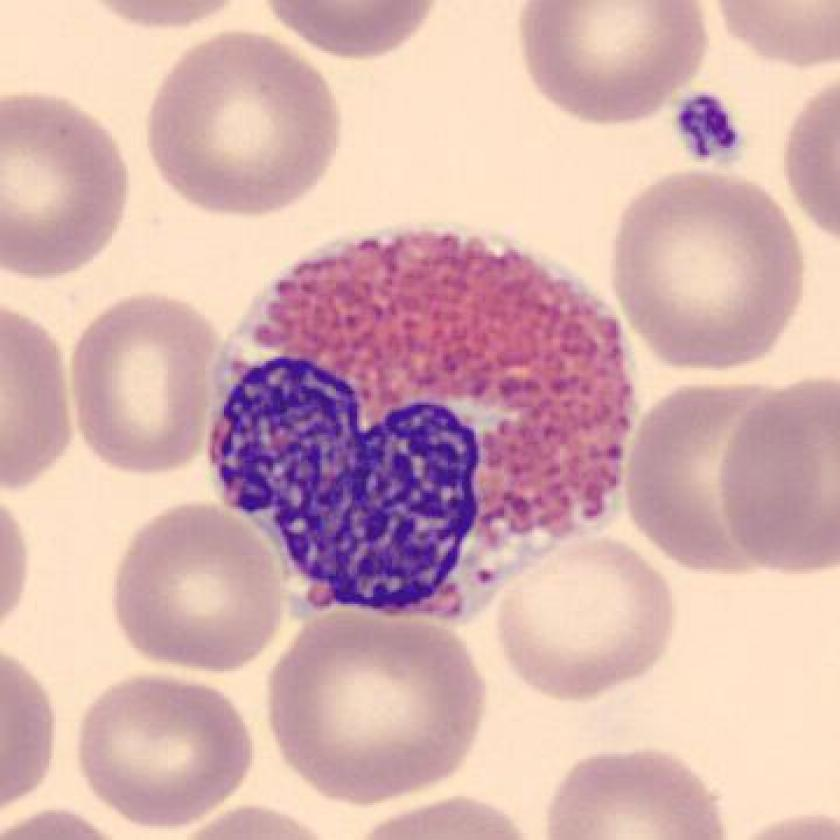eosinophil: (197, 212, 652, 633)
